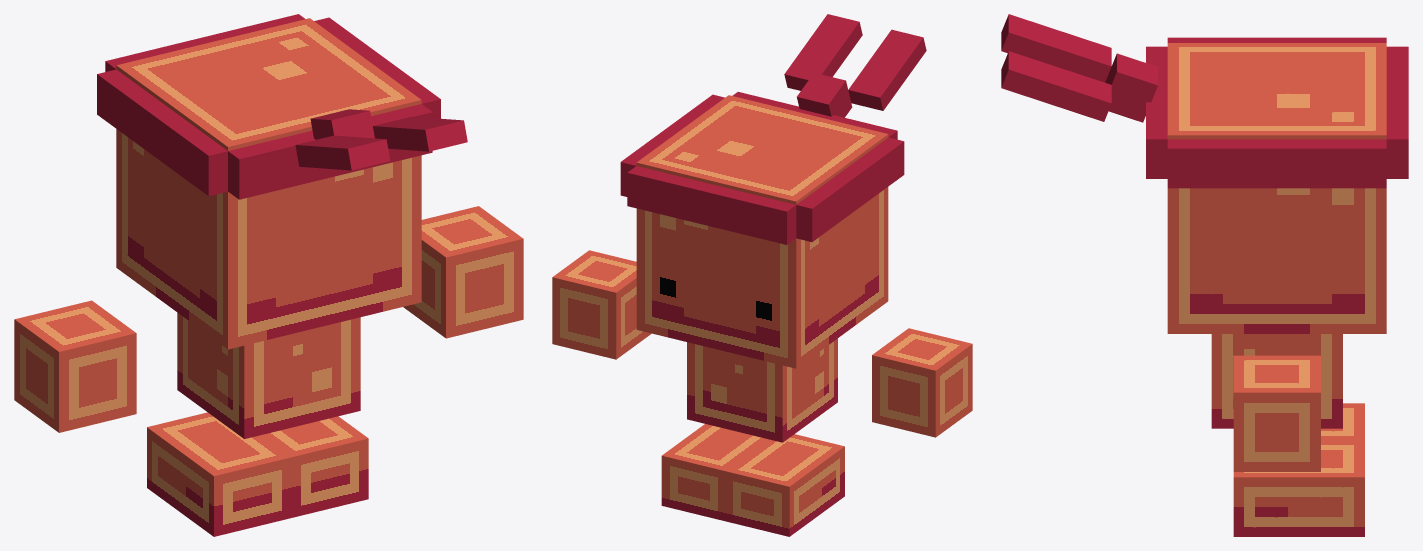
File: SlimePlayer_Orange.gltf
3 views of the same model, side by side, from view 1: azimuth 30°, elevation 25°; view 2: azimuth 150°, elevation 25°; view 3: azimuth 270°, elevation 25° (orthographic). The views are drawn at different scales.
Parts seen in each view (by area): view 1: cube (×13); view 2: cube (×13); view 3: cube (×12).
Part boxes in pixels (left/top/right/bottom): cube (×13): left=14, top=14, right=523, bottom=536; cube (×13): left=552, top=14, right=972, bottom=536; cube (×12): left=1001, top=14, right=1408, bottom=536.
Bounding box in the file's own units: 1.5 × 1.44 × 1.16.
Materials: 1 (1 with a texture image).
